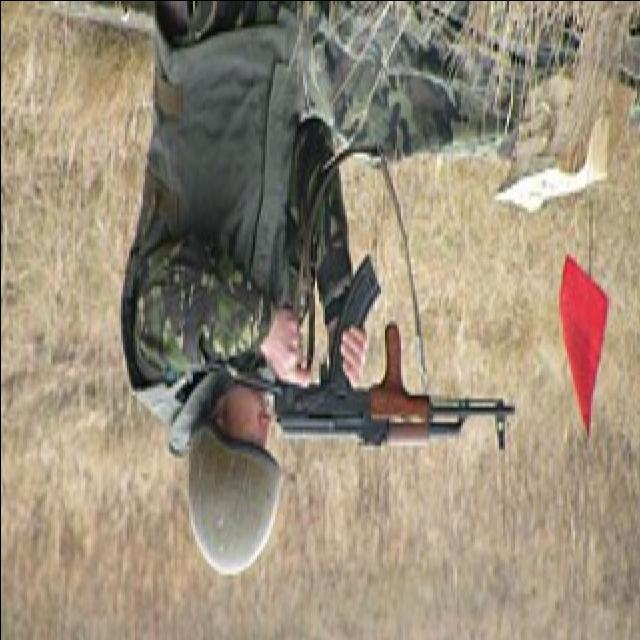rifle: (185, 259, 523, 457)
